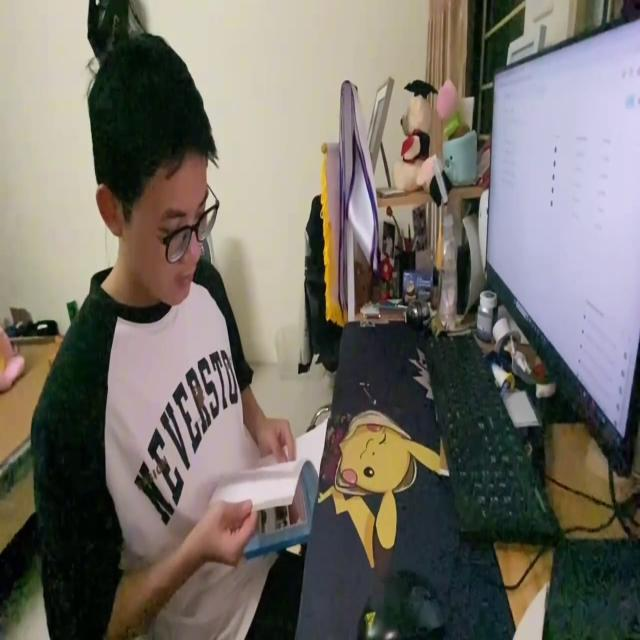book: (206, 419, 328, 558)
laptop: (485, 9, 640, 478)
student: (26, 31, 302, 640)
